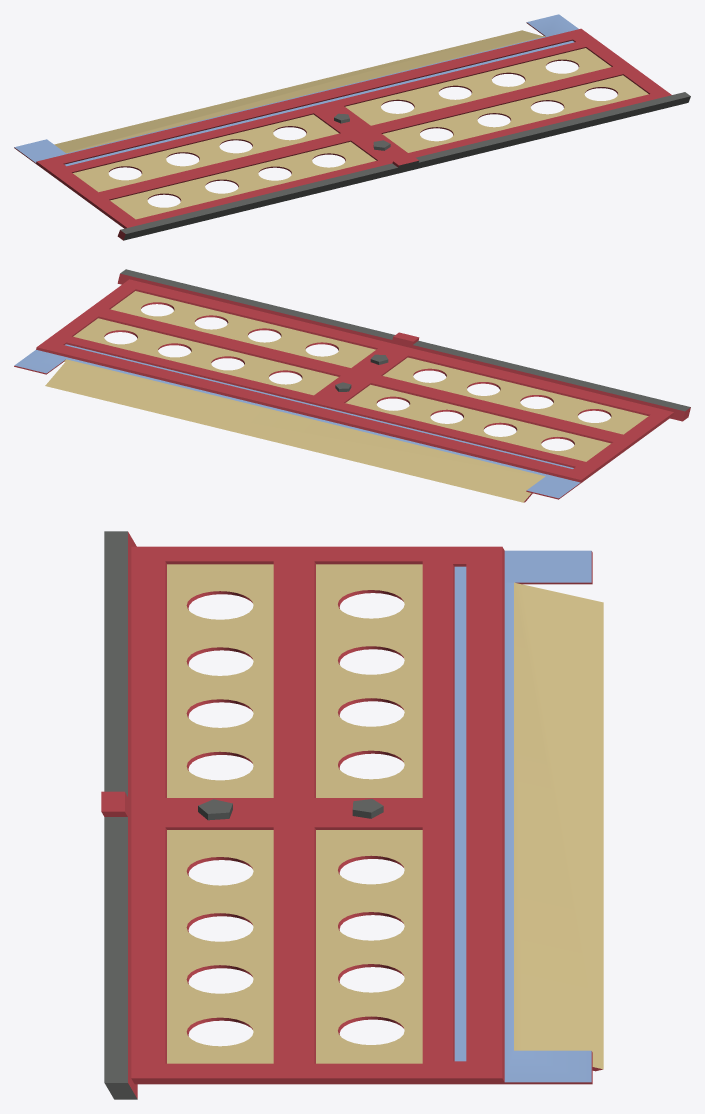
Rendered from Ship1_Hatch.fbx.
3 renders of one model, top to bottom at view 1: azimuth 30°, elevation 25°; view 2: azimuth 150°, elevation 25°; view 3: azimuth 270°, elevation 25°, orthographic. The views are drawn at different scales.
Visible parts, largest first — view 1: Model; view 2: Model; view 3: Model.
Boxes of the visible parts, <box> form: Model: <box>14,14,690,240</box>; Model: <box>14,269,690,502</box>; Model: <box>101,531,603,1099</box>.
Size of the model in its own units: 723 by 22.42 by 278.
